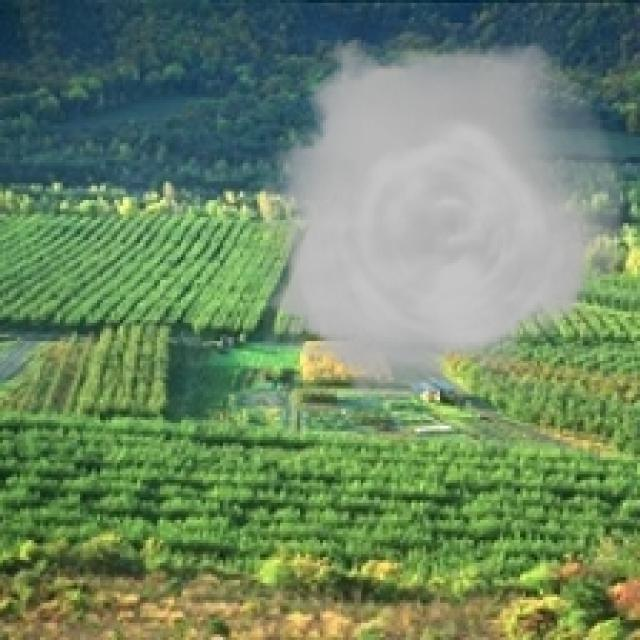smoke: (263, 23, 626, 417)
